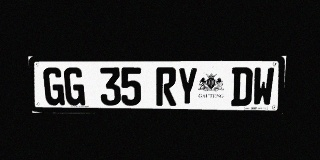3: (100, 67, 121, 106)
5: (121, 67, 142, 106)
D: (231, 67, 253, 106)
G: (43, 67, 65, 105), (63, 67, 85, 105)
R: (156, 67, 176, 106)
W: (252, 67, 275, 106)
Y: (177, 67, 198, 106)
